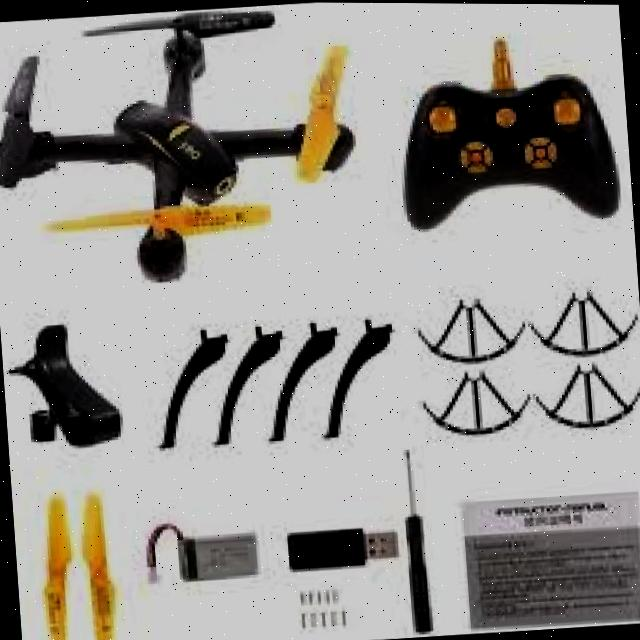drone: (0, 0, 367, 299)
